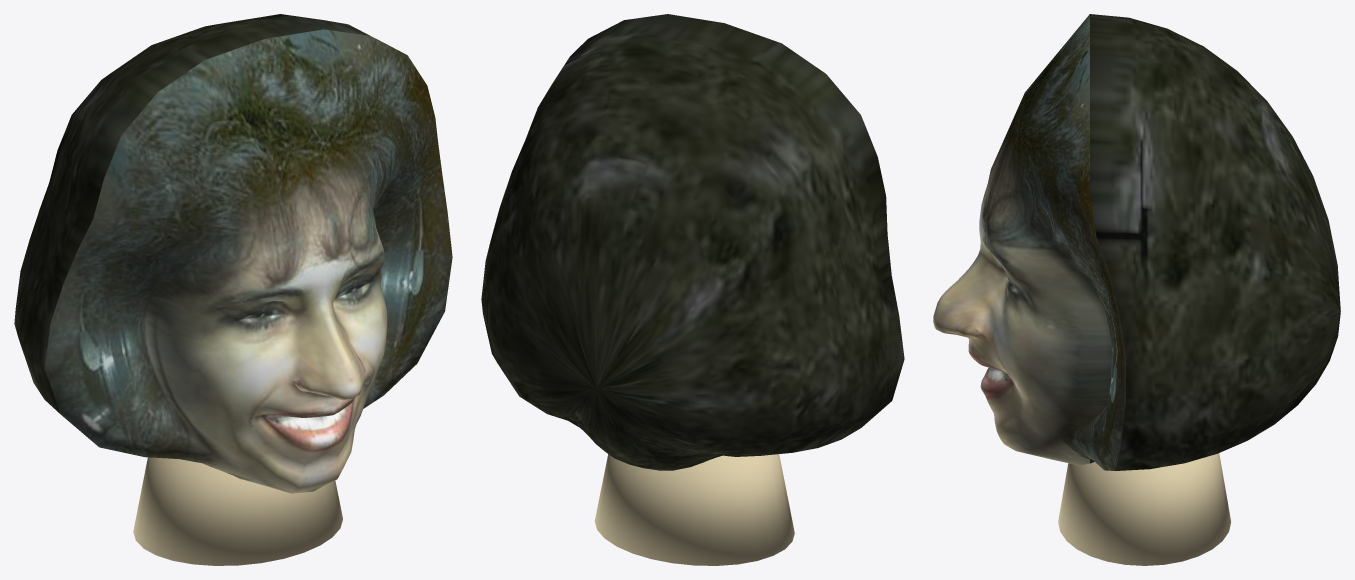
The model's file is ofra_haza.glb.
3 renders of one model, left to right at view 1: azimuth 30°, elevation 25°; view 2: azimuth 150°, elevation 25°; view 3: azimuth 270°, elevation 25°, orthographic. The views are drawn at different scales.
Visible parts, largest first — view 1: geometry_0; view 2: geometry_0; view 3: geometry_0.
Boxes of the visible parts, x1=… form: geometry_0: x1=14, y1=14, x2=452, y2=565; geometry_0: x1=481, y1=14, x2=904, y2=565; geometry_0: x1=933, y1=14, x2=1340, y2=565.
Bounding box in the file's own units: 1.77 × 2.1 × 1.6.
1 material, 1 textured.
